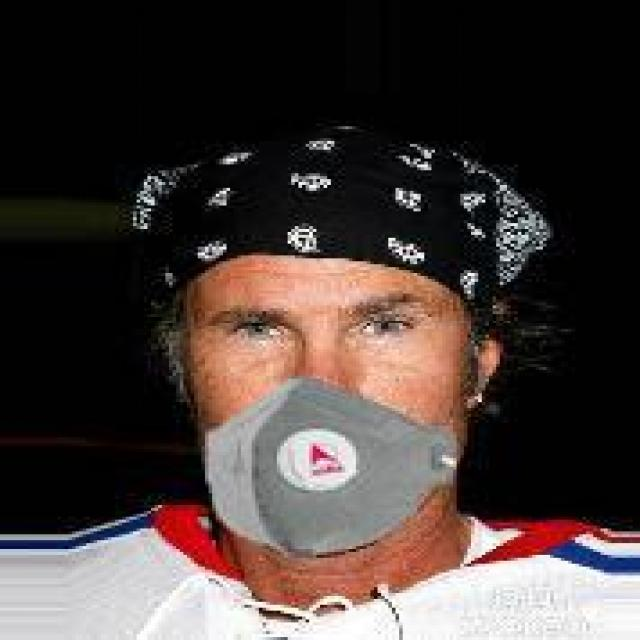mask: (111, 118, 522, 590)
